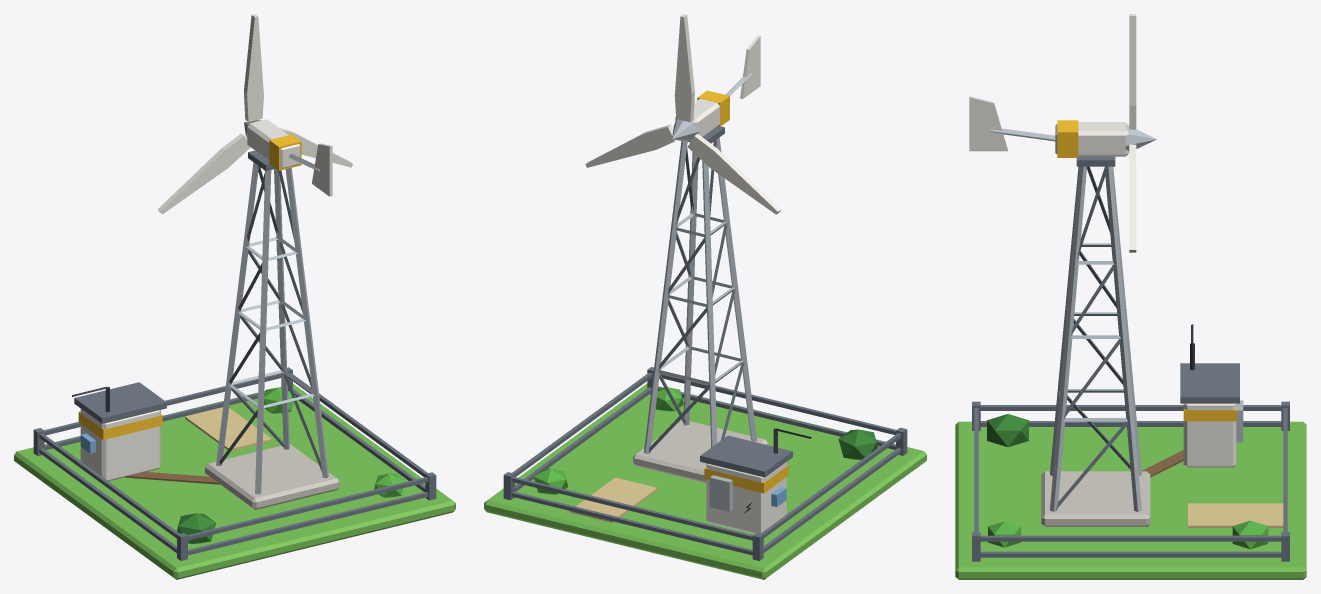
The model's file is wind_small.glb.
The picture shows the model from 3 angles, left to right: view 1: azimuth 30°, elevation 25°; view 2: azimuth 150°, elevation 25°; view 3: azimuth 270°, elevation 25°; orthographic projection. The views are drawn at different scales.
Visible parts, largest first — view 1: corpo, pas_1.001; view 2: corpo, pas_1.001; view 3: corpo, pas_1.001.
Part boxes in pixels (x1,y1,x2,y2): corpo: [14, 119, 455, 579]; pas_1.001: [158, 14, 352, 214]; corpo: [484, 35, 926, 579]; pas_1.001: [585, 14, 781, 214]; corpo: [955, 95, 1306, 579]; pas_1.001: [1125, 14, 1156, 252].
Size of the model in its own units: 2 by 3.16 by 2.
